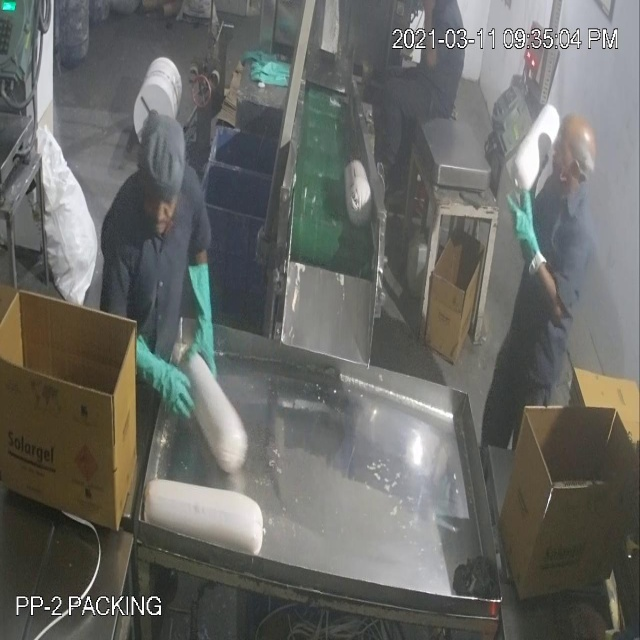Guantes: (185, 259, 224, 380), (506, 185, 545, 284)
Sin_guantes: (418, 1, 446, 74)
